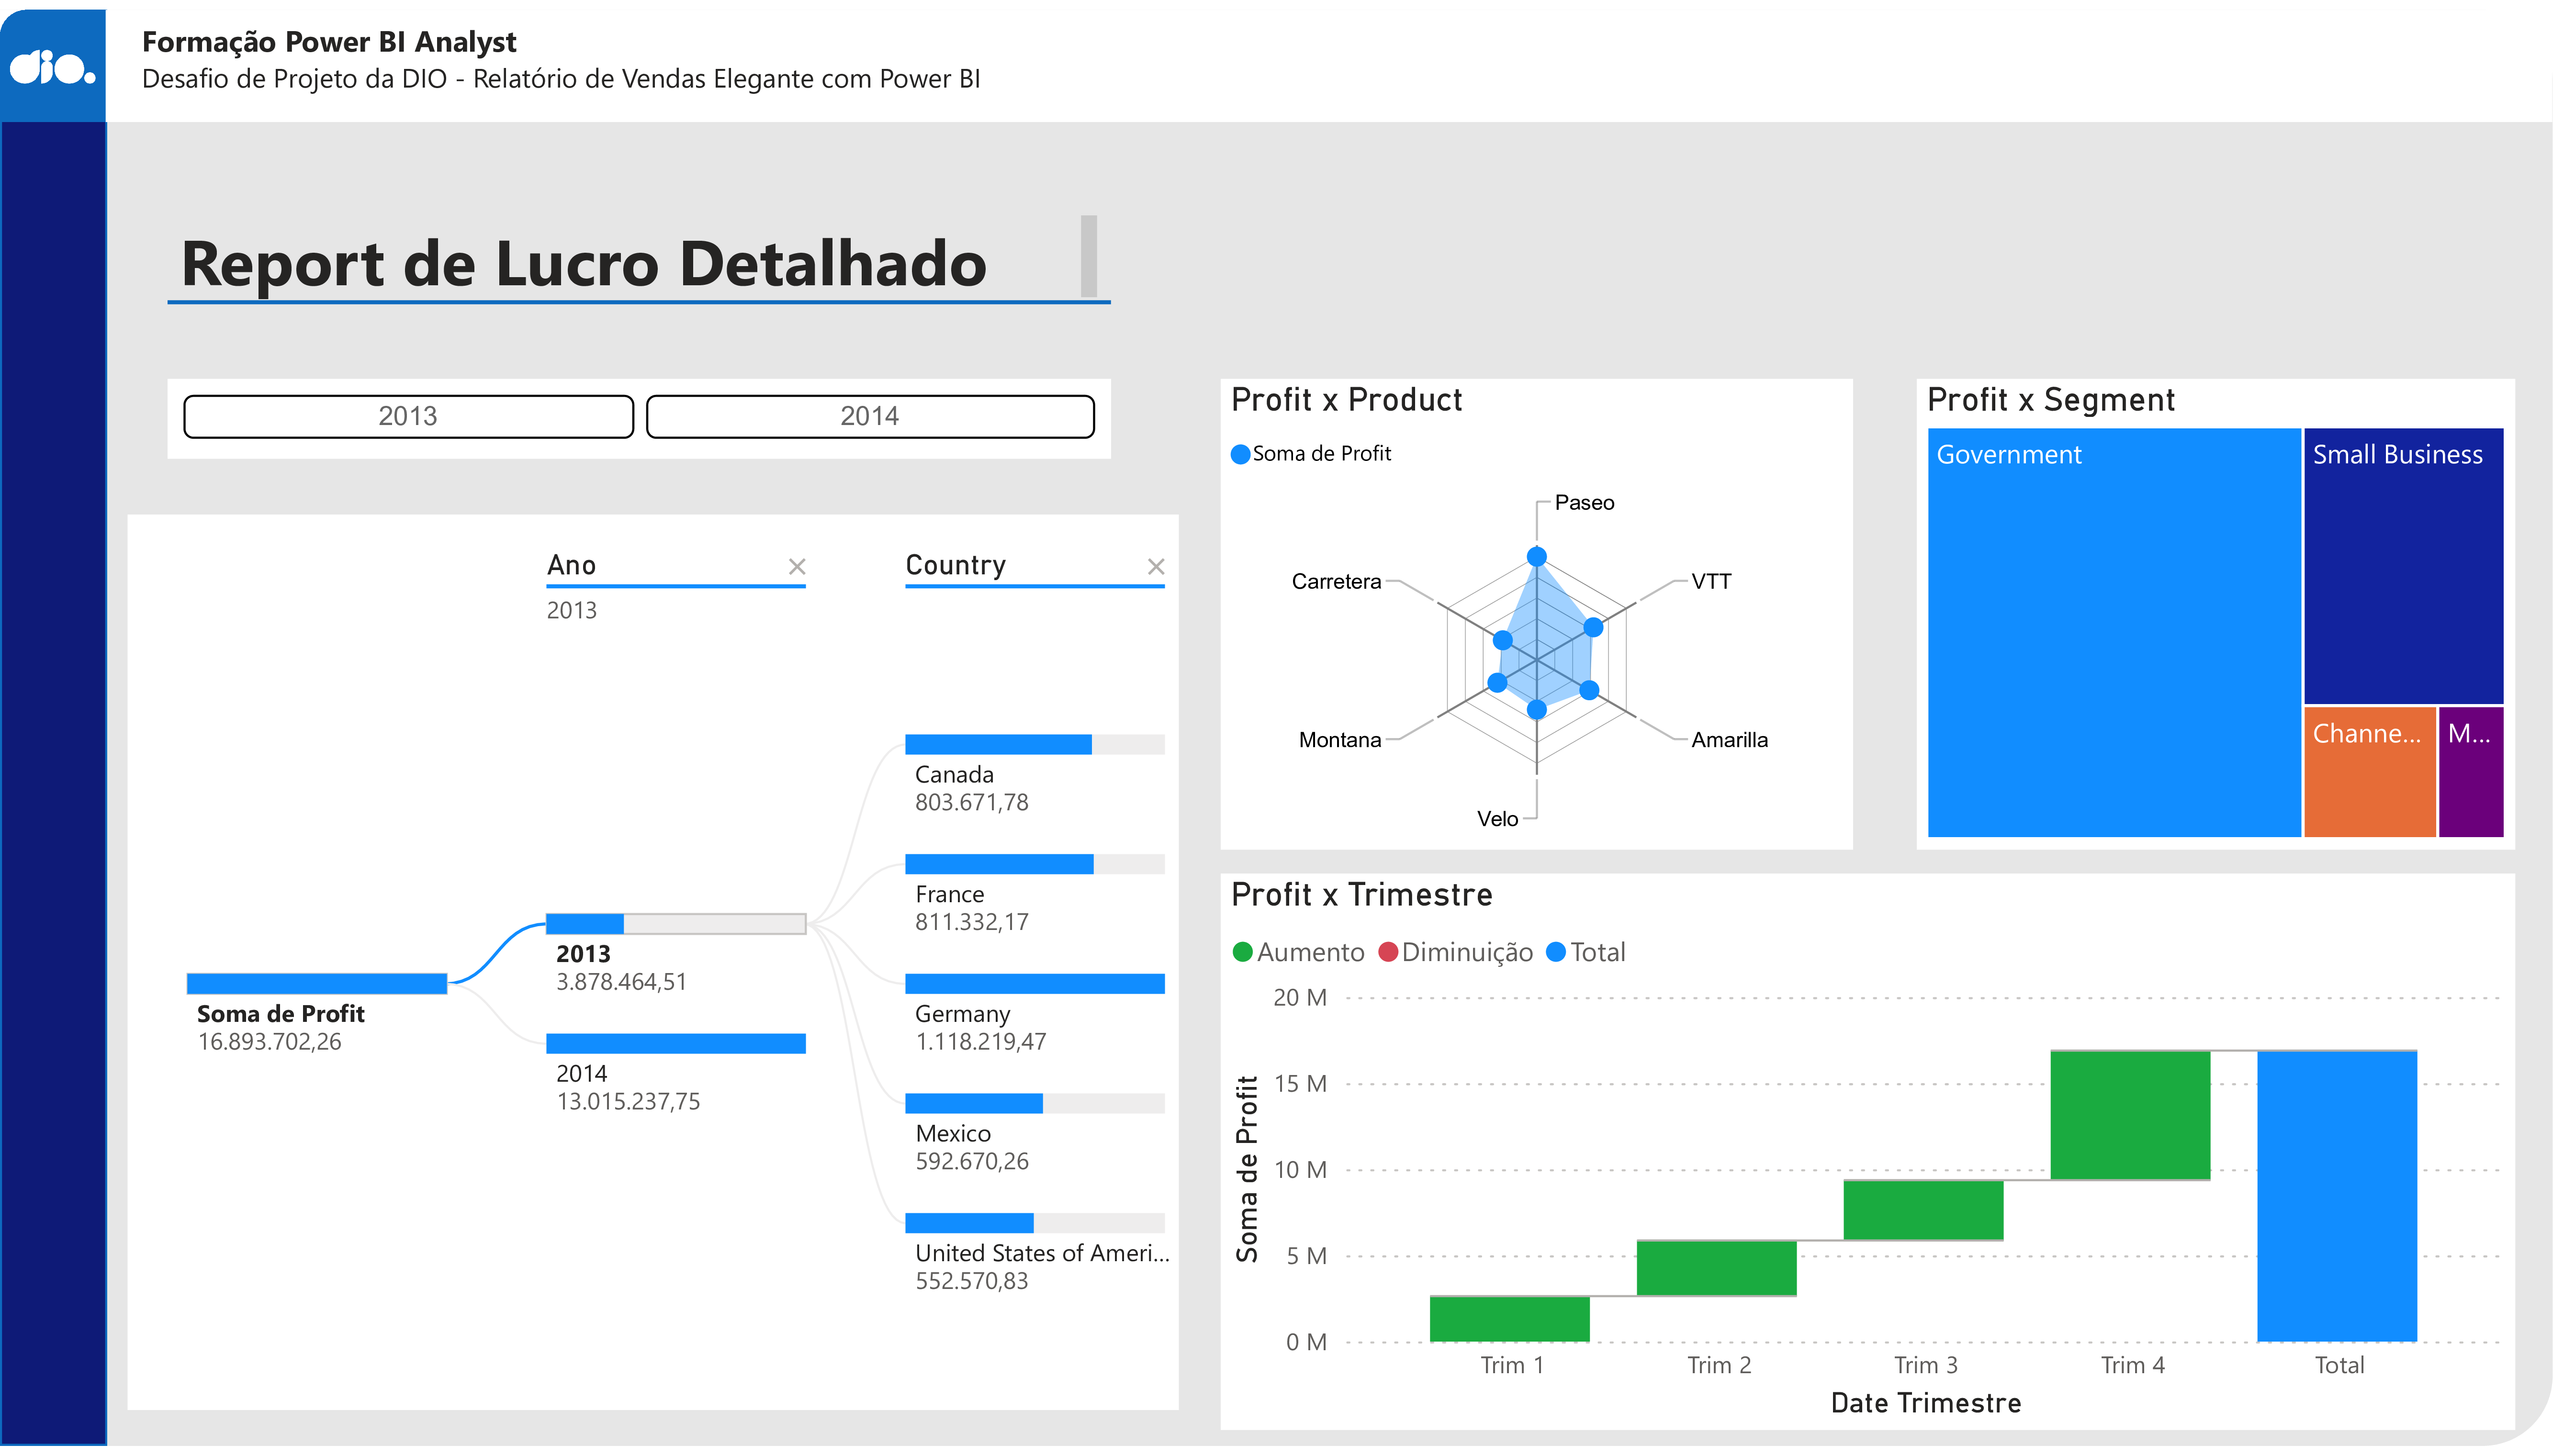

The page's visual inventory and layout, read from the dashboard file:
{"tool":"powerbi","page":{"name":"Report","canvas":[1280,720],"ordinal":1},"visuals":[{"type":"shape","box":[0,0,1279.7,720],"z":0},{"type":"shape","box":[83.9,127.8,473,37.1],"z":0,"group":"g1"},{"type":"shape","box":[0,0,53.7,720],"z":1000},{"type":"textbox","box":[85.3,97.6,470.2,52.2],"z":1000,"group":"g1"},{"type":"shape","box":[0,0,53.7,56.4],"z":2000},{"type":"image","box":[0,10.7,53.5,35],"z":3000},{"type":"shape","box":[53.5,0,1226.5,56.4],"z":4000},{"type":"textbox","box":[66.1,0,813.8,56.3],"z":5000},{"type":"group","id":"g1","title":"Sales report","box":[83.9,97.6,473,67.4],"z":6000},{"type":"ChicletSlicer1448559807354","fields":{"Category":["financials.Date.Variation.Hierarquia de datas.Ano"]},"box":[84.2,185.4,472.8,40.3],"z":7000},{"type":"RadarChart1446119667547","title":"Profit x Product","fields":{"Y":["Sum(financials.Profit)"],"Category":["financials.Product"]},"box":[611.6,185.4,317,235.5],"z":8000},{"type":"treemap","title":"Profit x Segment","fields":{"Values":["Sum(financials.Profit)"],"Group":["financials.Segment"]},"box":[960.9,185.4,300,235.5],"z":9000},{"type":"waterfallChart","title":"Profit x Trimestre","fields":{"Y":["Sum(financials.Profit)"],"Category":["financials.Date.Variation.Hierarquia de datas.Trimestre"]},"box":[611.6,432.5,649.3,278.5],"z":10000},{"type":"decompositionTreeVisual","fields":{"Analyze":["Sum(financials.Profit)"],"ExplainBy":["financials.Date.Variation.Hierarquia de datas.Ano","financials.Country"]},"box":[64.5,253.4,527.5,448.7],"z":11000}]}

Visuals, with their boxes on the page's 1280x720 design canvas (x1, y1, x2, y2). These are canvas units, not pixel positions in the 2553x1456 screenshot, which may show the page scaled, cropped or inside an application window:
shape: [0, 0, 1280, 720]
shape: [84, 128, 557, 165]
shape: [0, 0, 54, 720]
textbox: [85, 98, 556, 150]
shape: [0, 0, 54, 56]
image: [0, 11, 54, 46]
shape: [54, 0, 1280, 56]
textbox: [66, 0, 880, 56]
"Sales report" group: [84, 98, 557, 165]
ChicletSlicer1448559807354 - financials.Date.Variation.Hierarquia de datas.Ano: [84, 185, 557, 226]
"Profit x Product" RadarChart1446119667547: [612, 185, 929, 421]
"Profit x Segment" treemap: [961, 185, 1261, 421]
"Profit x Trimestre" waterfallChart: [612, 432, 1261, 711]
decompositionTreeVisual - Sum(financials.Profit) x financials.Date.Variation.Hierarquia de datas.Ano: [64, 253, 592, 702]
